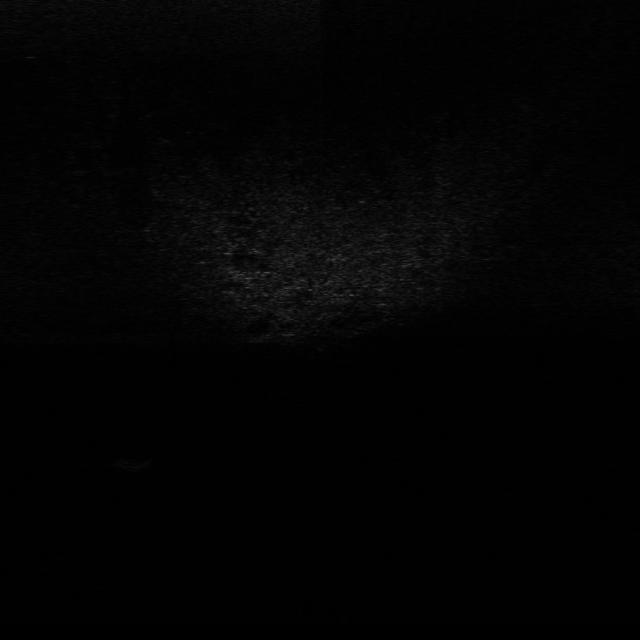cube: (114, 448, 158, 473)
